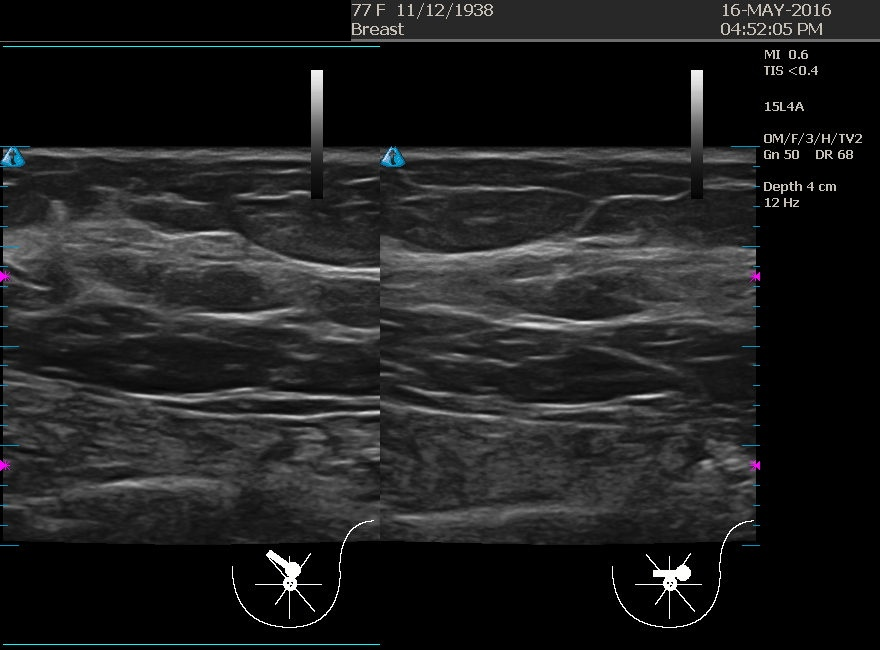BIRADS_3: (88, 192, 288, 392), (467, 158, 667, 358)
